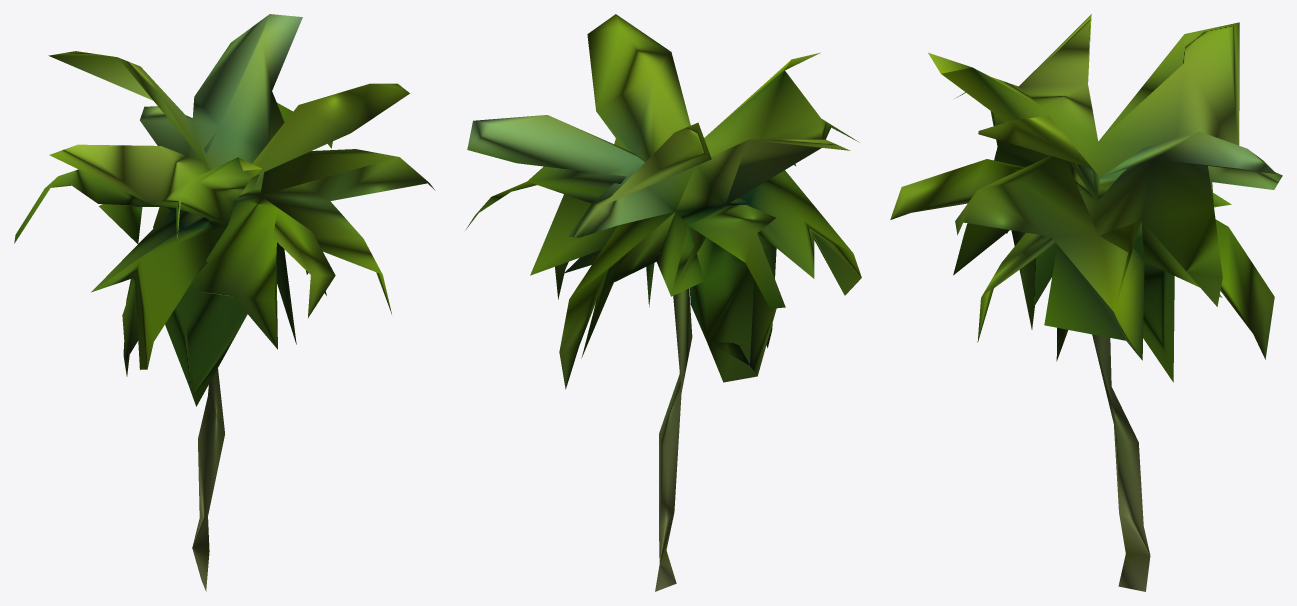
The model's file is palm_far.glb.
3 renders of one model, left to right at view 1: azimuth 30°, elevation 25°; view 2: azimuth 150°, elevation 25°; view 3: azimuth 270°, elevation 25°, orthographic. The views are drawn at different scales.
Visible parts, largest first — view 1: palm; view 2: palm; view 3: palm.
Boxes of the visible parts, <box> form: palm: <box>14,14,435,591</box>; palm: <box>465,14,861,591</box>; palm: <box>890,14,1282,591</box>.
Size of the model in its own units: 0.6883 by 1 by 0.6765.
